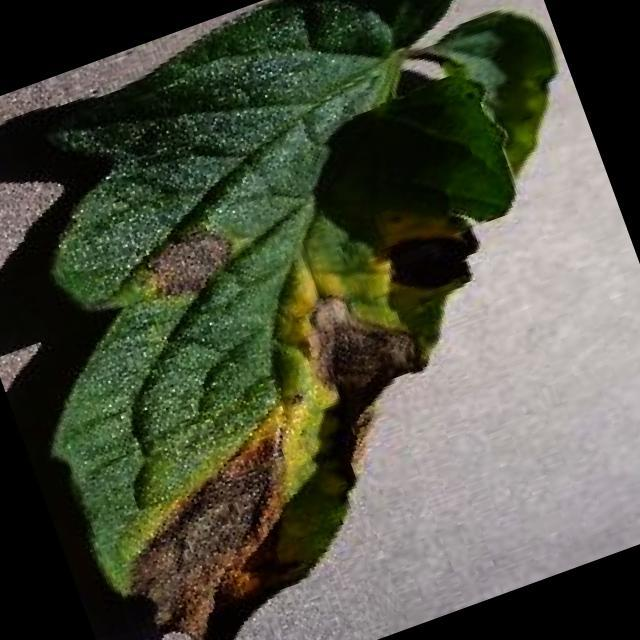Tomato Early blight leaf: (0, 136, 593, 640)
